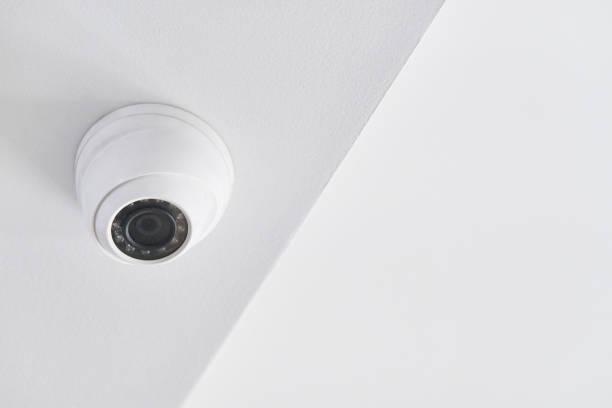camera: (50, 73, 249, 296)
